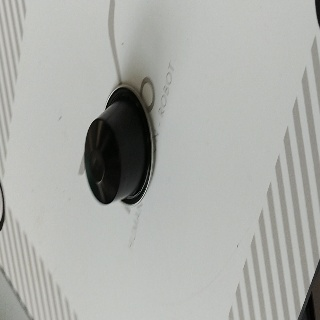capsule_10: (83, 83, 155, 208)
